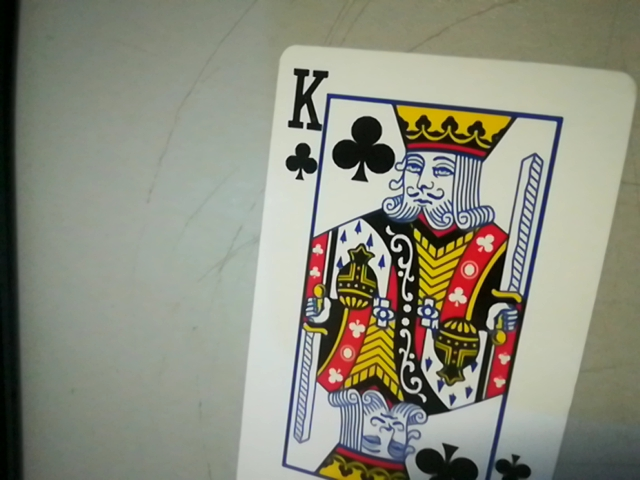mh k: (277, 61, 330, 185)
